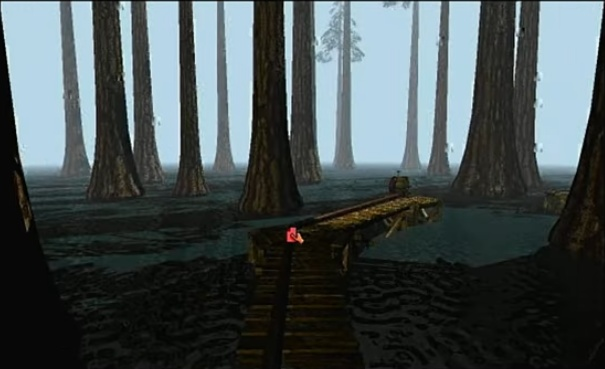Keep: (283, 223, 307, 245)
